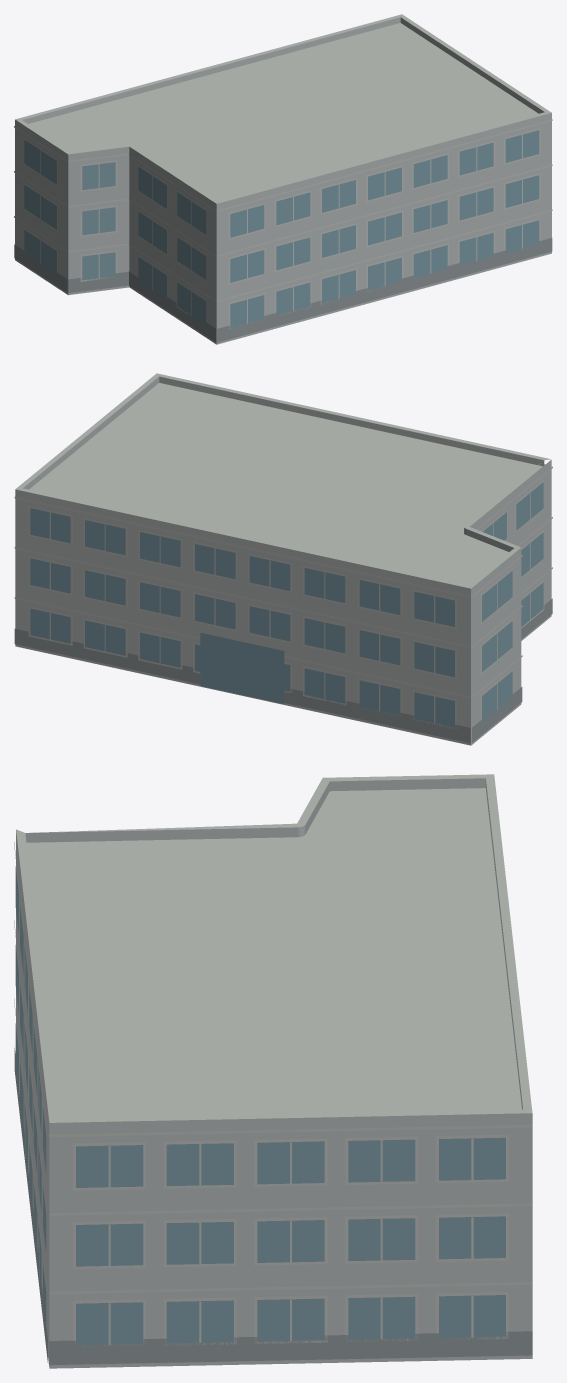
File: public-cf66f1ab-4d63-4dad-9863-f73aa18e2072.glb
The picture shows the model from 3 angles, top to bottom: view 1: azimuth 30°, elevation 25°; view 2: azimuth 150°, elevation 25°; view 3: azimuth 270°, elevation 25°; orthographic projection. The views are drawn at different scales.
Parts seen in each view (by area): view 1: public-cf66f1ab-4d63-4dad-9863-f73aa18e2072; view 2: public-cf66f1ab-4d63-4dad-9863-f73aa18e2072; view 3: public-cf66f1ab-4d63-4dad-9863-f73aa18e2072.
Part boxes in pixels (x1=…): public-cf66f1ab-4d63-4dad-9863-f73aa18e2072: x1=14, y1=14, x2=552, y2=344; public-cf66f1ab-4d63-4dad-9863-f73aa18e2072: x1=14, y1=373, x2=552, y2=745; public-cf66f1ab-4d63-4dad-9863-f73aa18e2072: x1=14, y1=774, x2=532, y2=1368.
Bounding box in the file's own units: 27.99 × 9.15 × 18.19.
